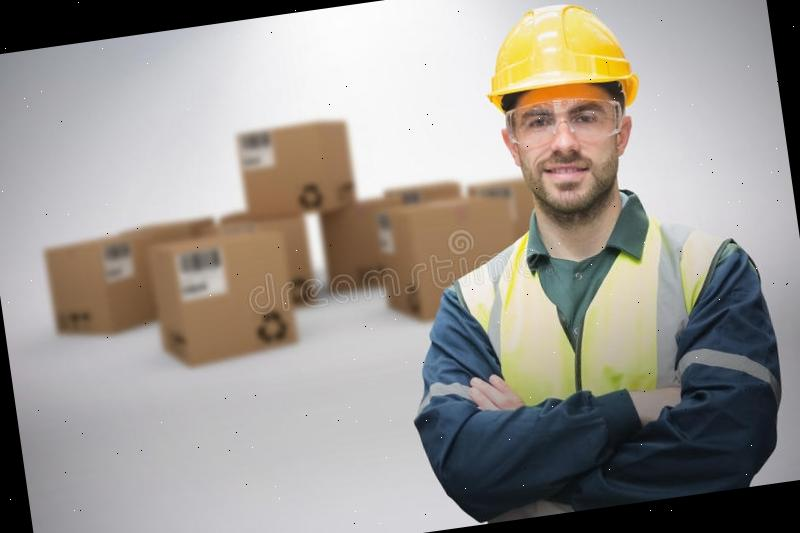helmet: (474, 0, 641, 116)
wear: (435, 222, 773, 526)
